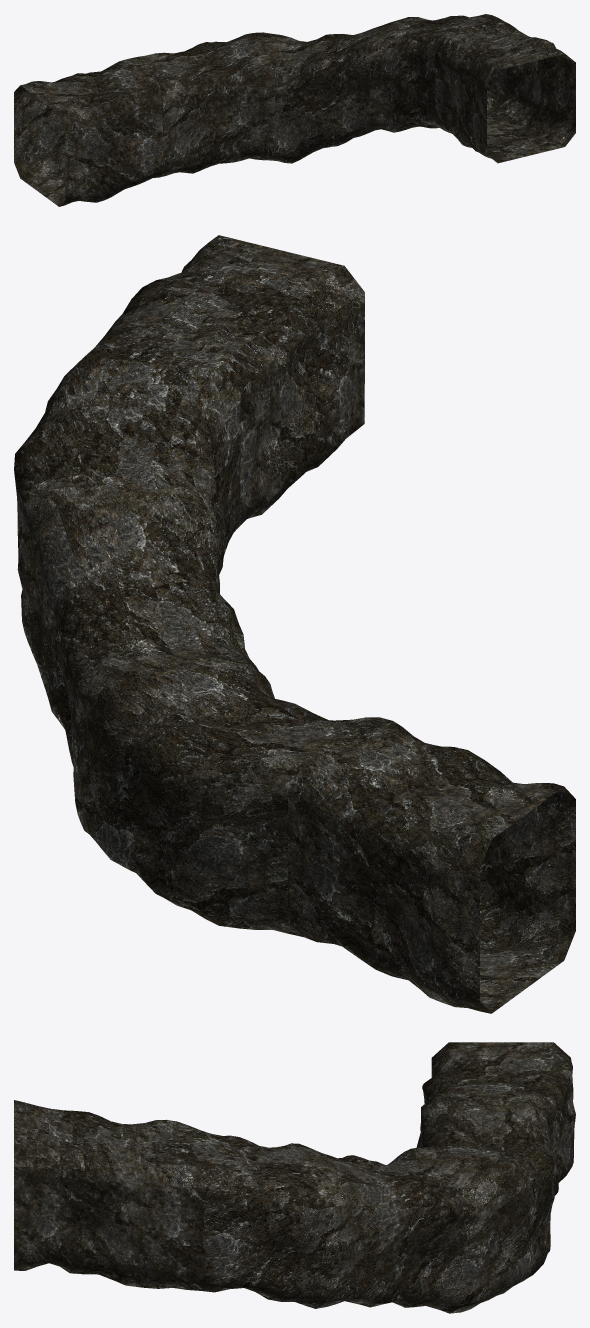
File: Cave_073.fbx
3 views of the same model, one above another, from view 1: azimuth 30°, elevation 25°; view 2: azimuth 150°, elevation 25°; view 3: azimuth 270°, elevation 25° (orthographic). The views are drawn at different scales.
Visible parts, largest first — view 1: Cave.073; view 2: Cave.073; view 3: Cave.073.
Boxes of the visible parts, x1,y1,x2,y2 form: Cave.073: [14, 14, 575, 206]; Cave.073: [14, 235, 575, 1013]; Cave.073: [14, 1042, 575, 1313].
Bounding box in the file's own units: 1217 × 608 × 1211.
